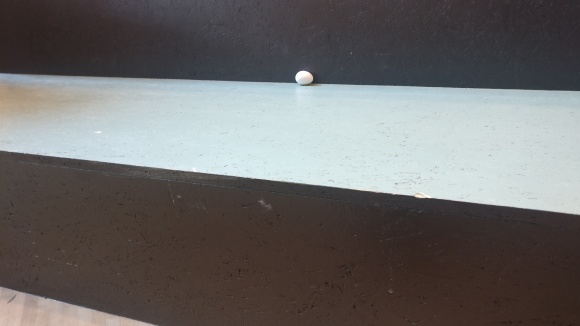egg: (294, 69, 314, 86)
